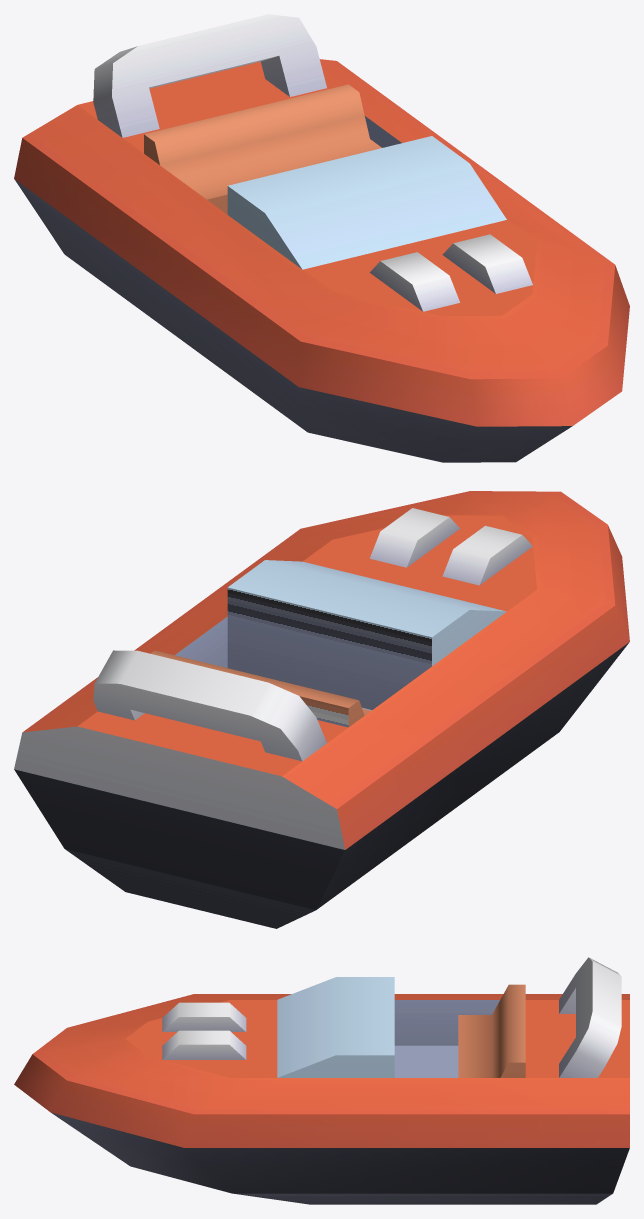
File: boat-speed-h.glb
The picture shows the model from 3 angles, top to bottom: view 1: azimuth 30°, elevation 25°; view 2: azimuth 150°, elevation 25°; view 3: azimuth 270°, elevation 25°; orthographic projection. The views are drawn at different scales.
Parts seen in each view (by area): view 1: boat-speed-h; view 2: boat-speed-h; view 3: boat-speed-h.
Part boxes in pixels (x1,y1,x2,y2): boat-speed-h: [14, 14, 629, 462]; boat-speed-h: [14, 491, 629, 928]; boat-speed-h: [14, 957, 629, 1204].
Bounding box in the file's own units: 1.78 × 1.25 × 3.67.
Materials: 1 (1 with a texture image).
